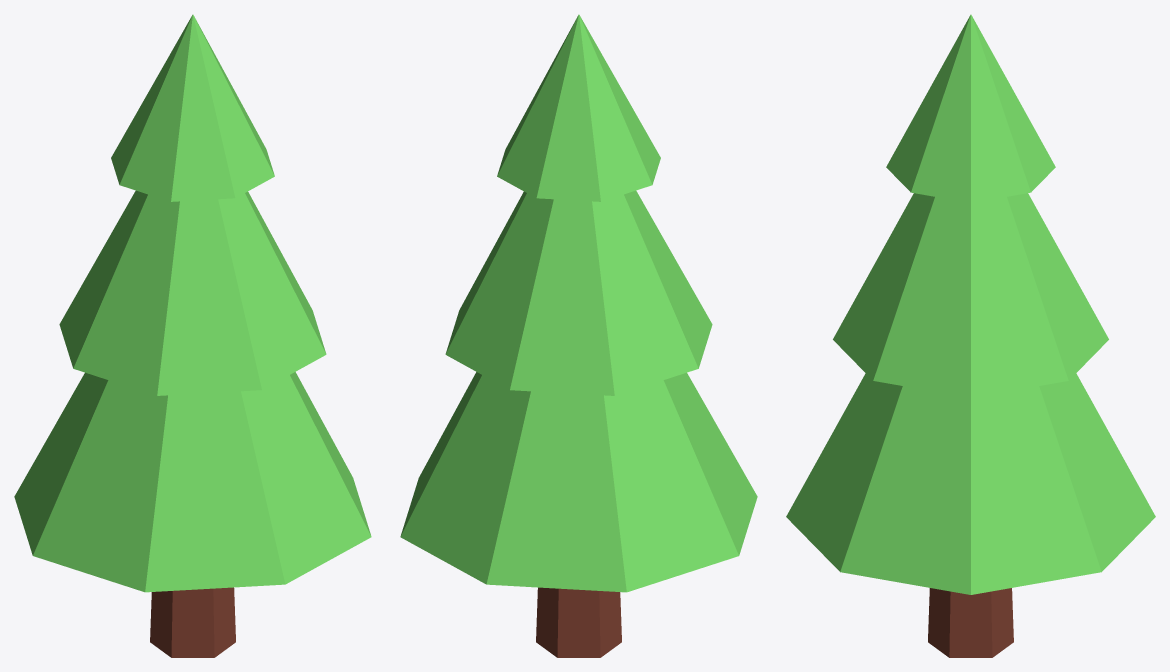
File: Spruce.fbx
3 views of the same model, side by side, from view 1: azimuth 30°, elevation 25°; view 2: azimuth 150°, elevation 25°; view 3: azimuth 270°, elevation 25° (orthographic).
Parts seen in each view (by area): view 1: Crown, Trunk; view 2: Crown, Trunk; view 3: Crown, Trunk.
Boxes of the visible parts, x1,y1,x2,y2 form: Crown: [14, 14, 371, 592]; Trunk: [150, 587, 235, 657]; Crown: [400, 14, 757, 592]; Trunk: [536, 587, 621, 657]; Crown: [786, 14, 1155, 594]; Trunk: [928, 588, 1013, 657].
Bounding box in the file's own units: 100 × 187 × 100.
